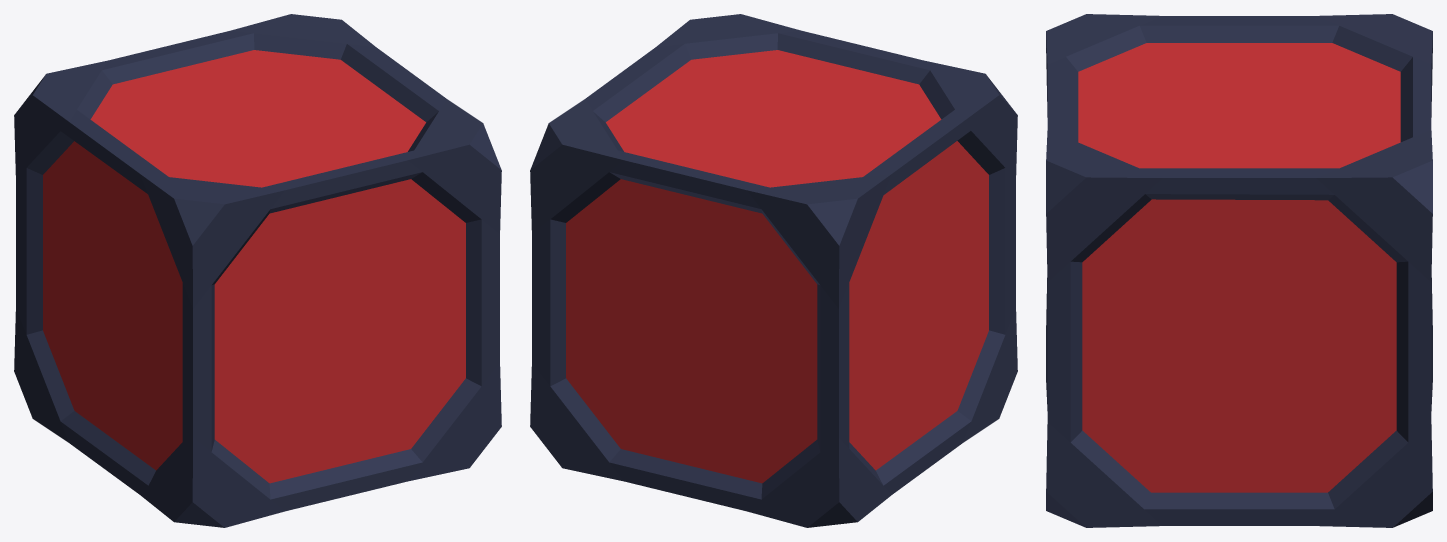
File: Box_Prop.fbx
3 views of the same model, side by side, from view 1: azimuth 30°, elevation 25°; view 2: azimuth 150°, elevation 25°; view 3: azimuth 270°, elevation 25° (orthographic). The views are drawn at different scales.
Parts seen in each view (by area): view 1: Box_Prop; view 2: Box_Prop; view 3: Box_Prop.
Boxes of the visible parts, box(x1,y1,x2,y2) form: Box_Prop: box(14, 14, 501, 527); Box_Prop: box(530, 14, 1017, 527); Box_Prop: box(1046, 14, 1432, 527).
Bounding box in the file's own units: 87.67 × 87.67 × 87.67.
